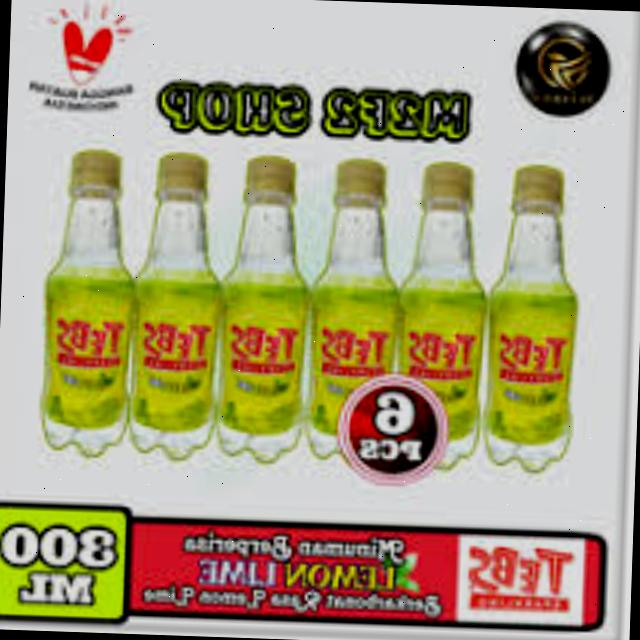trash: (474, 160, 588, 477), (34, 143, 145, 461), (123, 144, 230, 466), (388, 152, 493, 472), (213, 152, 316, 466), (302, 151, 404, 461)
